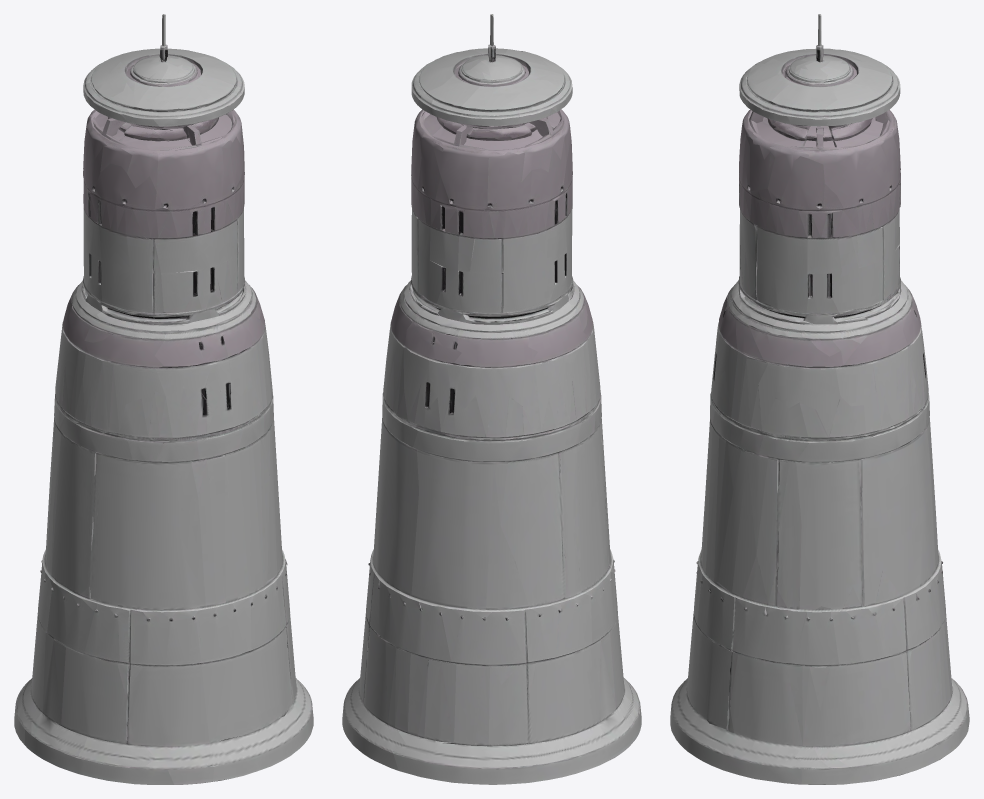
Rendered from cloudcity.glb.
3 renders of one model, left to right at view 1: azimuth 30°, elevation 25°; view 2: azimuth 150°, elevation 25°; view 3: azimuth 270°, elevation 25°, orthographic.
Visible parts, largest first — view 1: cloudcity-centred; view 2: cloudcity-centred; view 3: cloudcity-centred.
Boxes of the visible parts, x1=… form: cloudcity-centred: x1=14, y1=14, x2=313, y2=784; cloudcity-centred: x1=342, y1=14, x2=641, y2=784; cloudcity-centred: x1=670, y1=14, x2=969, y2=784.
Bounding box in the file's own units: 23.05 × 60 × 23.02.
Materials: 1 (1 with a texture image).
